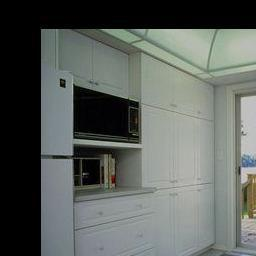Armario: (143, 106, 215, 186), (143, 52, 214, 118), (77, 201, 155, 256), (155, 189, 215, 256)
Electrodomestico: (43, 66, 76, 256), (75, 84, 139, 144)
